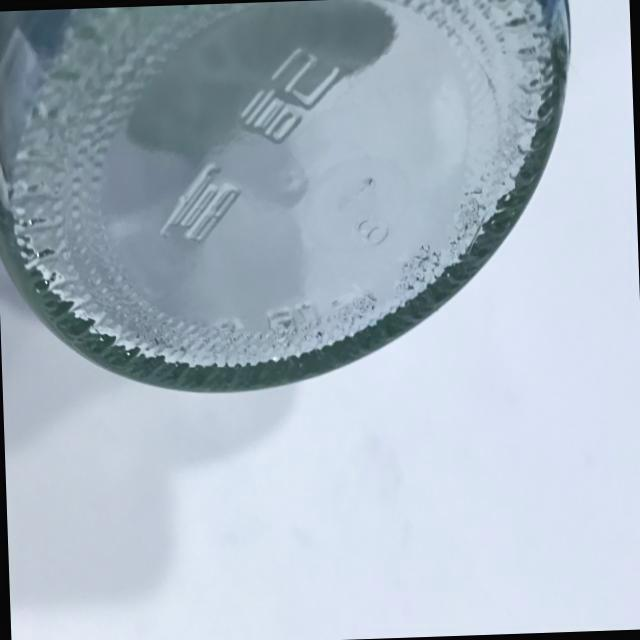glass: (0, 0, 592, 409)
